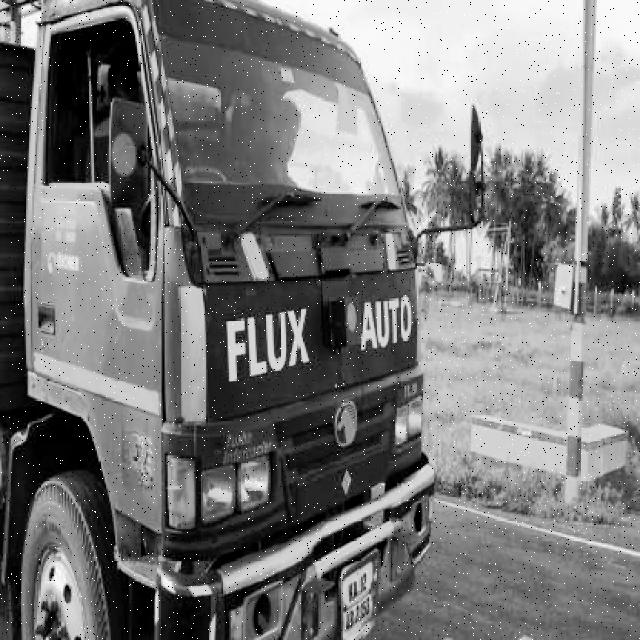HCV: (37, 11, 425, 640)
